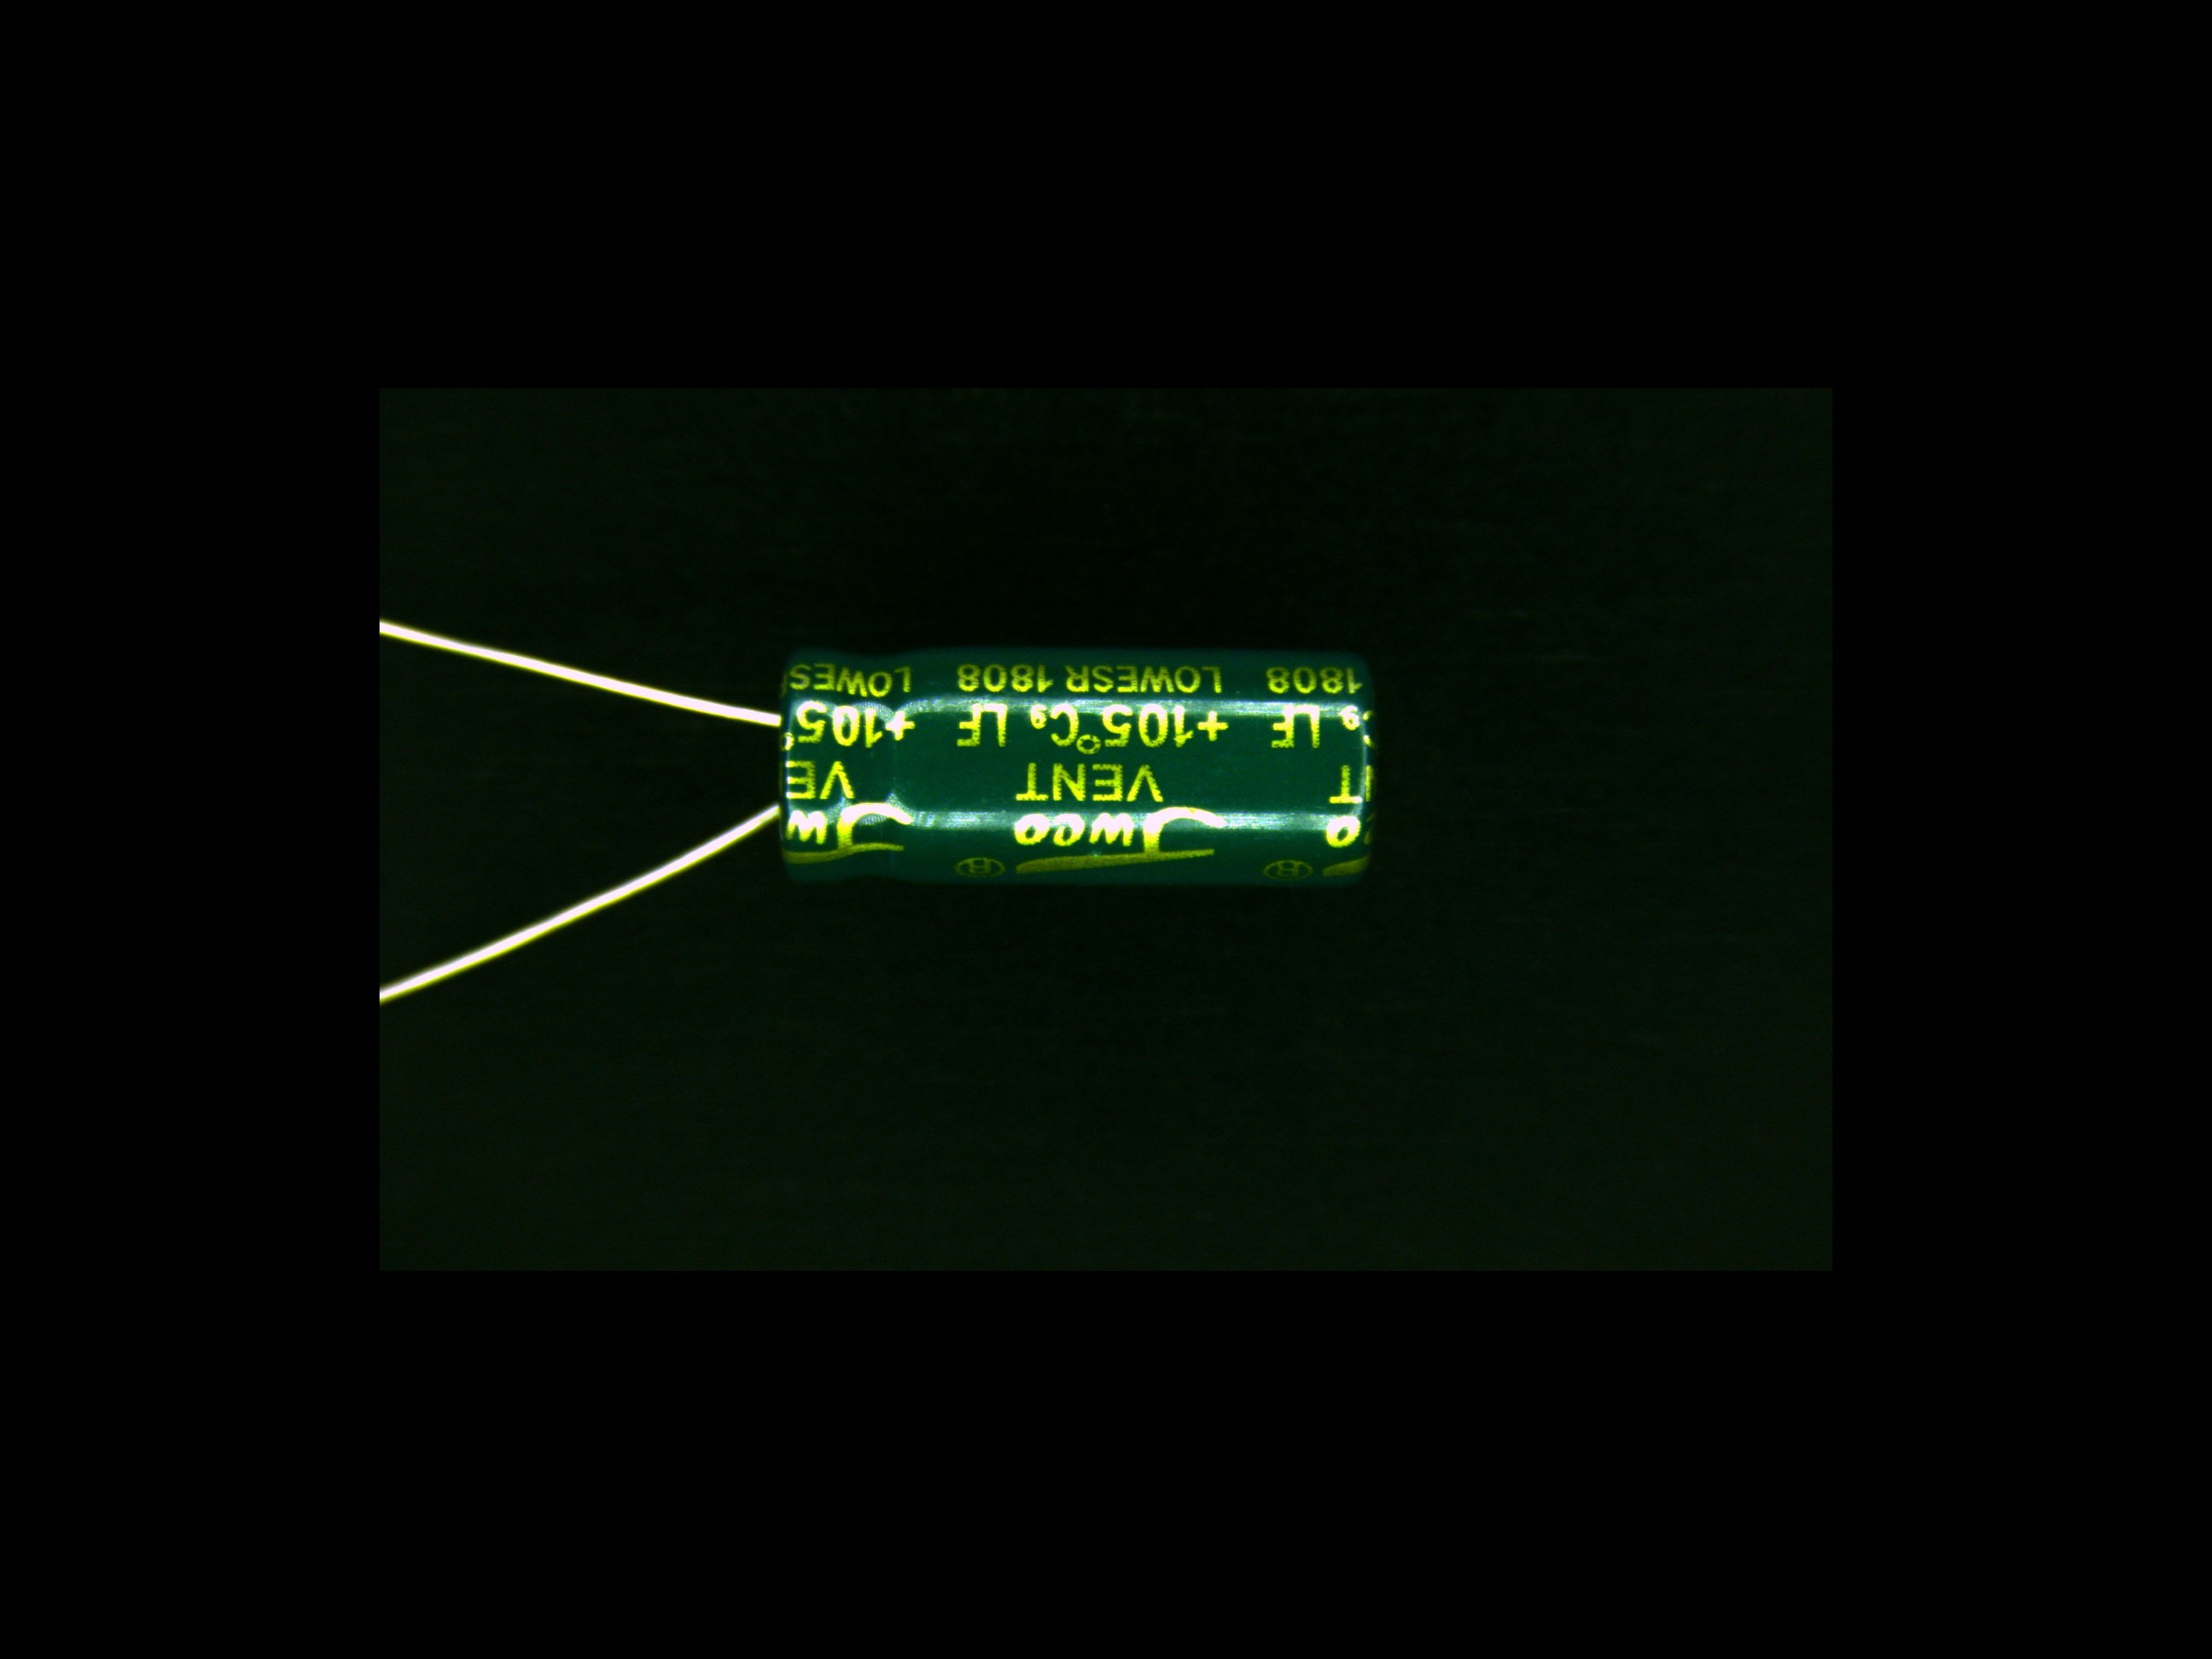c1: (657, 638, 1374, 889)
